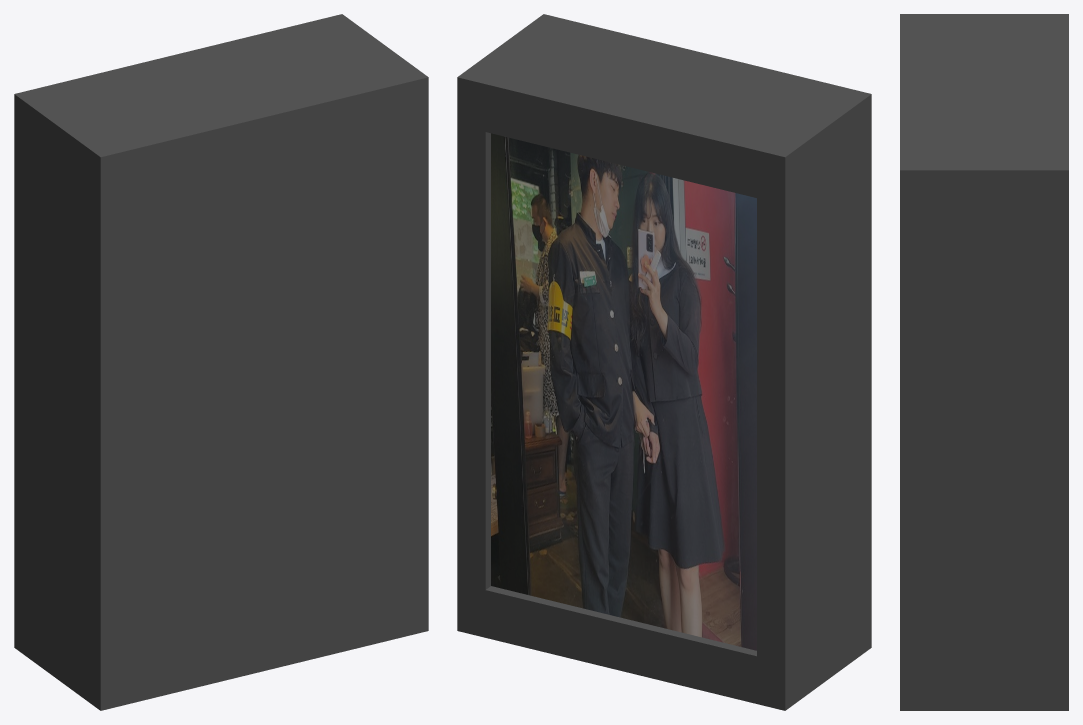
Rendered from 8ddd681c-ed7c-46c0-85ea-169f593b954a.glb.
The picture shows the model from 3 angles, left to right: view 1: azimuth 30°, elevation 25°; view 2: azimuth 150°, elevation 25°; view 3: azimuth 270°, elevation 25°; orthographic projection. The views are drawn at different scales.
Visible parts, largest first — view 1: Cube; view 2: Cube; view 3: Cube.
Part boxes in pixels (x1,y1,x2,y2): Cube: (14,14,428,710); Cube: (457,14,871,710); Cube: (900,14,1068,710).
Bounding box in the file's own units: 3.08 × 4.97 × 1.41.
2 materials, 1 textured.
